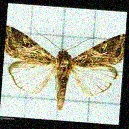Spodoptera litura: (3, 28, 123, 111)
